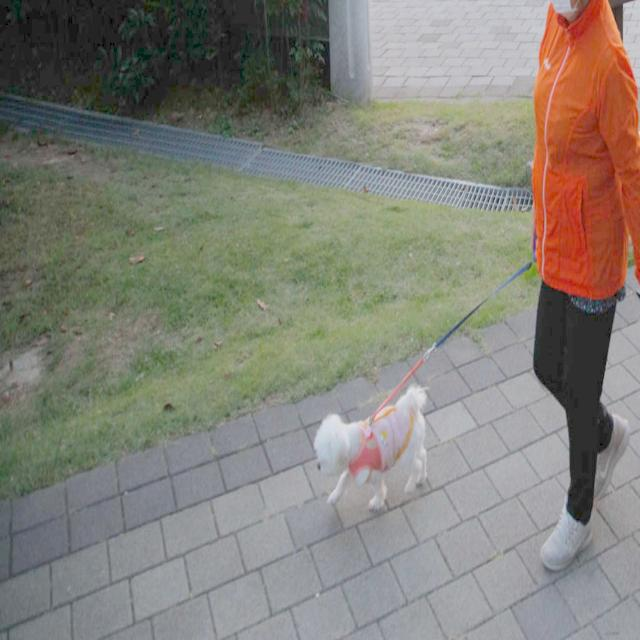Leashed_Dog: (314, 212, 572, 513)
